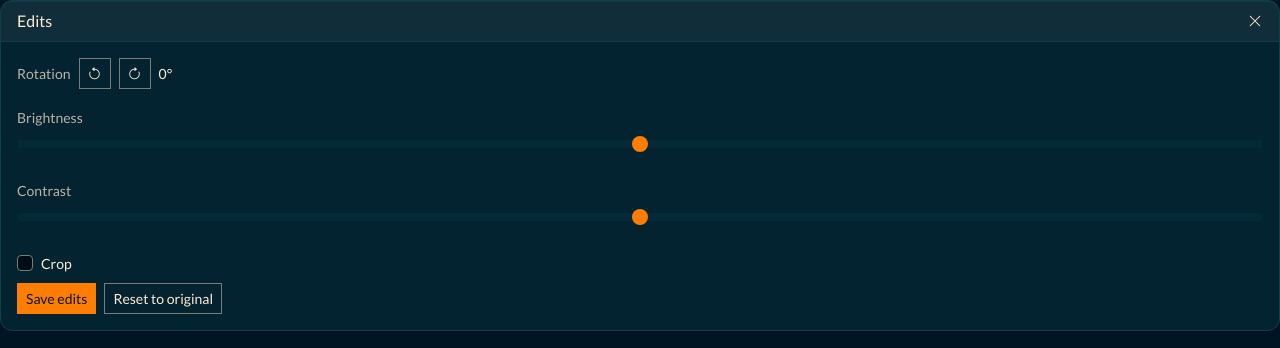
EditPanel rotation › turns counter-clockwise into 270°, never a negative angle
Click the button named "Rotate left": (94, 74) [78,58,110,89]
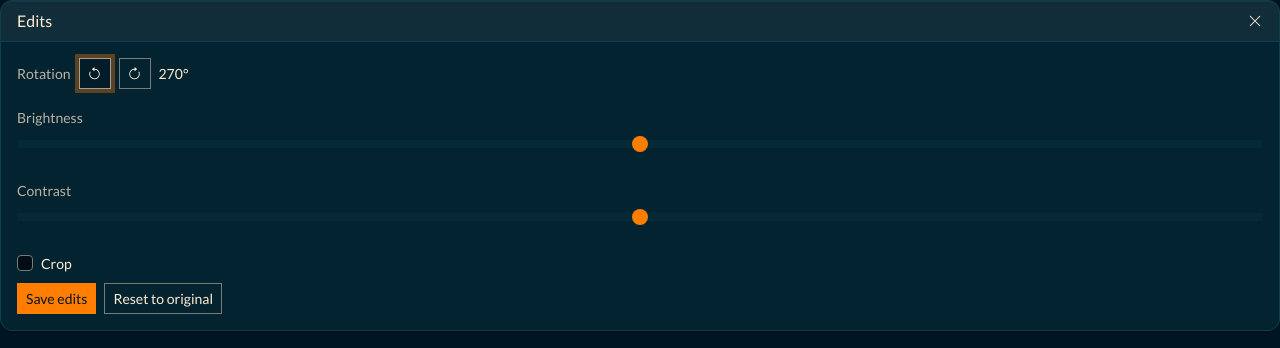
Check: the text "270°" is shown, box [158,63,188,84]
